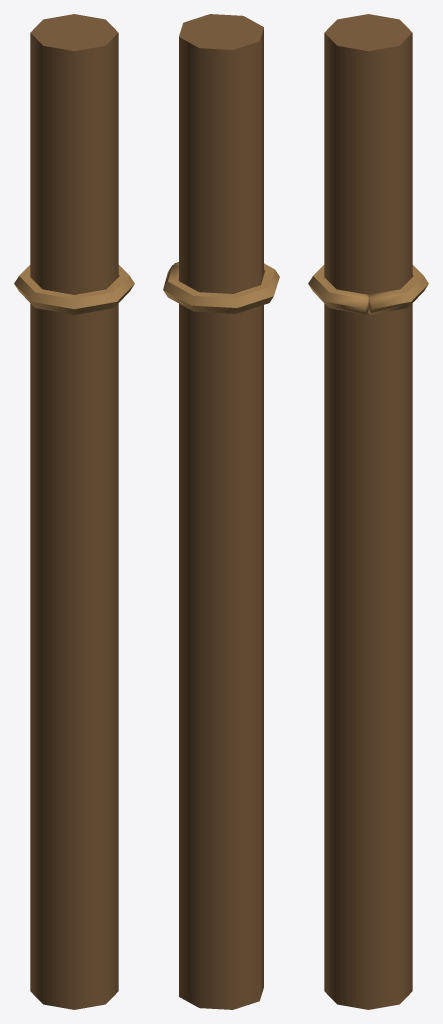
Rendered from fence-willow-post.lod1.glb.
3 views of the same model, side by side, from view 1: azimuth 90°, elevation 25°; view 2: azimuth 150°, elevation 25°; view 3: azimuth 270°, elevation 25° (orthographic).
Parts seen in each view (by area): view 1: fence-willow-post_lod1; view 2: fence-willow-post_lod1; view 3: fence-willow-post_lod1.
Part boxes in pixels (bbox=[...]): fence-willow-post_lod1: bbox=[14, 14, 134, 1009]; fence-willow-post_lod1: bbox=[163, 14, 279, 1009]; fence-willow-post_lod1: bbox=[308, 14, 428, 1009].
Bounding box in the file's own units: 0.0954 × 0.84 × 0.096.
